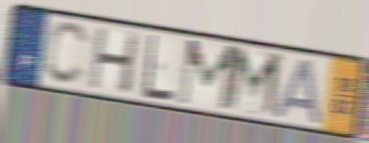A: (271, 56, 325, 127)
C: (42, 20, 92, 88)
H: (87, 25, 142, 96)
L: (142, 32, 176, 103)
M: (222, 44, 285, 122), (176, 37, 240, 113)
